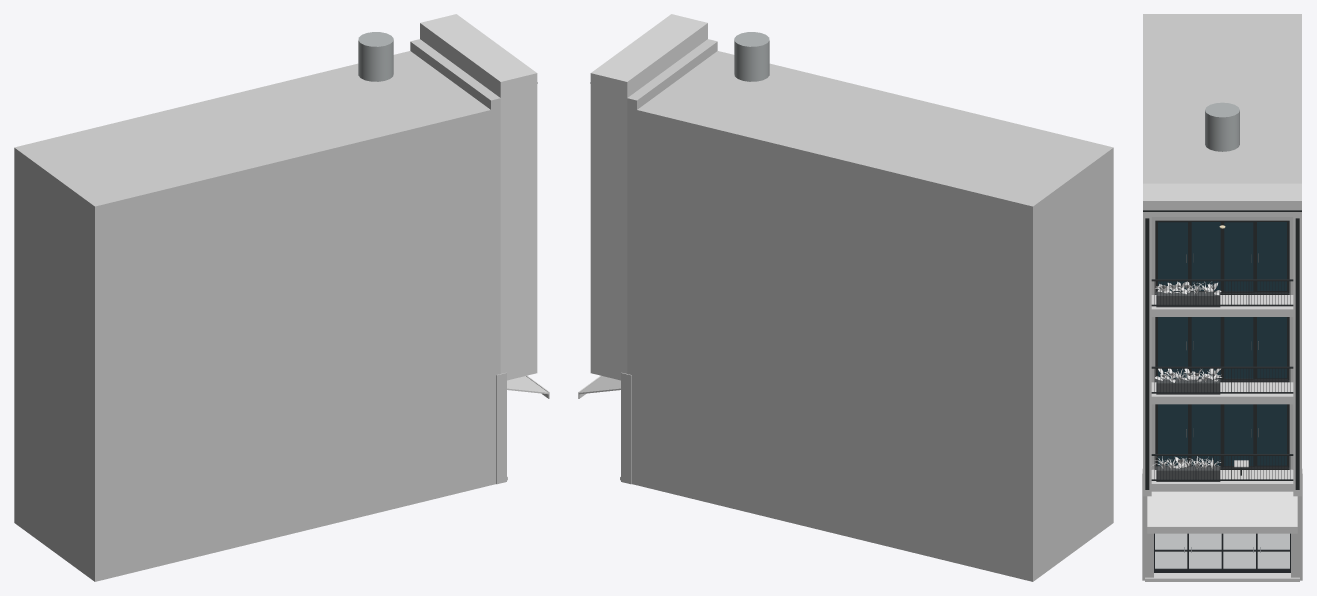
The model's file is OW_Mau_NhaPho_5_5_3.fbx.
3 views of the same model, side by side, from view 1: azimuth 30°, elevation 25°; view 2: azimuth 150°, elevation 25°; view 3: azimuth 270°, elevation 25° (orthographic).
Parts seen in each view (by area): view 1: OW_NhaPho_9022; view 2: OW_NhaPho_9022; view 3: OW_NhaPho_9022, OW_MatTienKinh.
Part boxes in pixels (box(x1,y1,x2,y2)): OW_NhaPho_9022: box(14, 14, 549, 581); OW_NhaPho_9022: box(578, 14, 1113, 581); OW_NhaPho_9022: box(1142, 14, 1302, 581); OW_MatTienKinh: box(1154, 533, 1290, 572).
Bounding box in the file's own units: 17.77 × 16.15 × 5.5.
